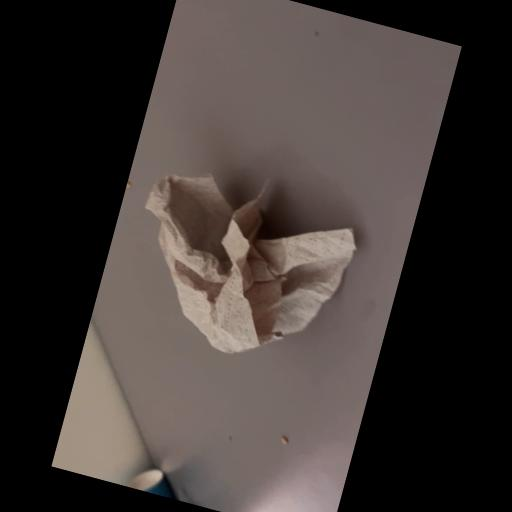napkin: (114, 156, 365, 378)
